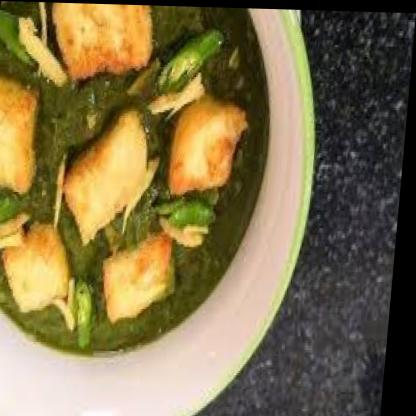palak_paneer: (0, 0, 280, 360)
